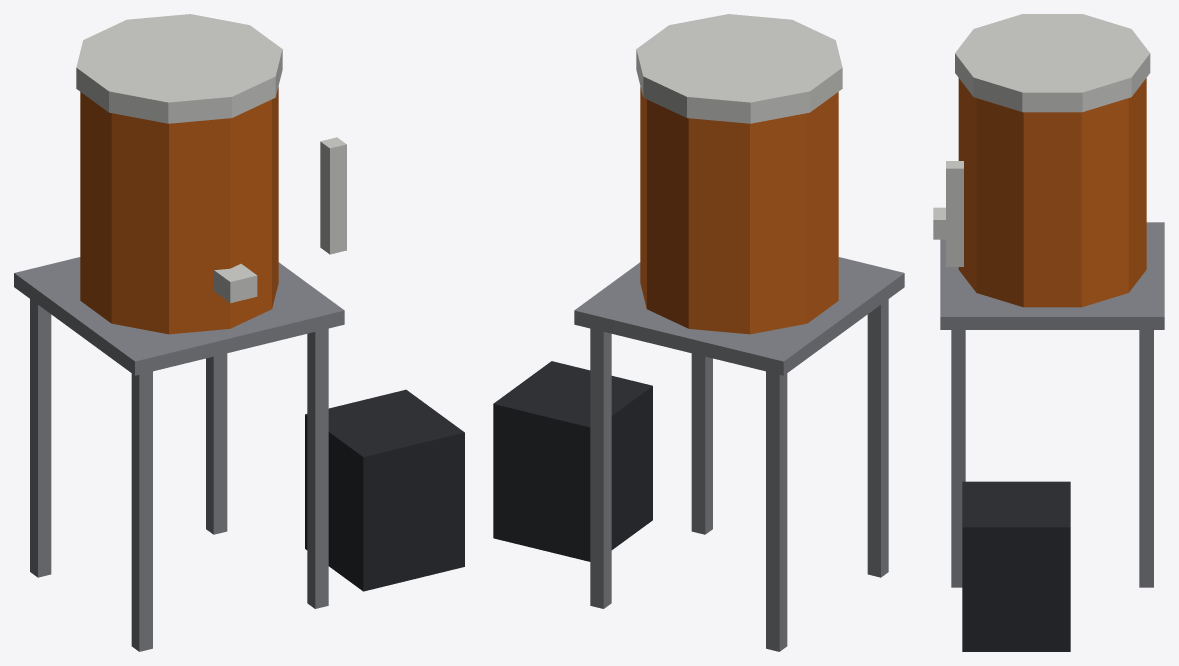
The model's file is prop_water-cooler.7d9b537fea8f.glb.
3 renders of one model, left to right at view 1: azimuth 30°, elevation 25°; view 2: azimuth 150°, elevation 25°; view 3: azimuth 270°, elevation 25°, orthographic. The views are drawn at different scales.
Parts seen in each view (by area): view 1: body; view 2: body; view 3: body.
Part boxes in pixels (x1,y1,x2,y2): body: (14, 14, 464, 651); body: (493, 14, 904, 651); body: (933, 14, 1164, 651).
Size of the model in its own units: 1.01 by 1.5 by 0.64.
